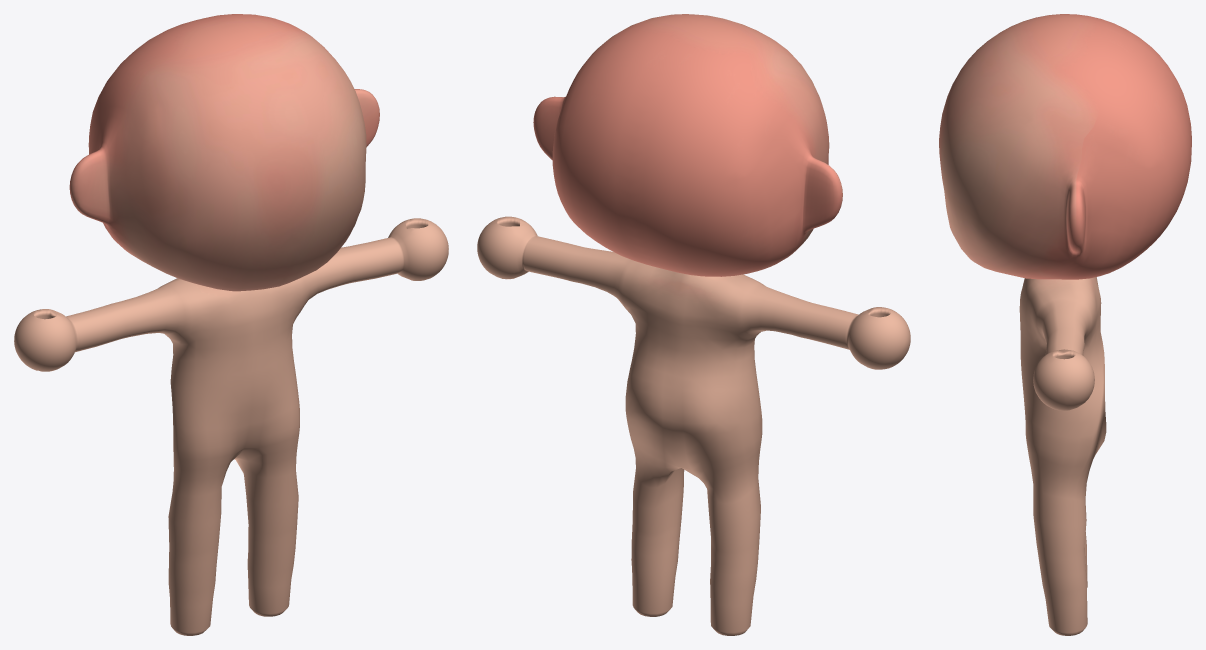
3 views of the same model, side by side, from view 1: azimuth 30°, elevation 25°; view 2: azimuth 150°, elevation 25°; view 3: azimuth 270°, elevation 25° (orthographic). The views are drawn at different scales.
Parts seen in each view (by area): view 1: Body; view 2: Body; view 3: Body.
Part boxes in pixels (x1,y1,x2,y2): Body: (14, 14, 448, 635); Body: (477, 14, 910, 635); Body: (939, 14, 1191, 635).
Bounding box in the file's own units: 1.52 × 2.03 × 0.7997.
Materials: 1 (1 with a texture image).
